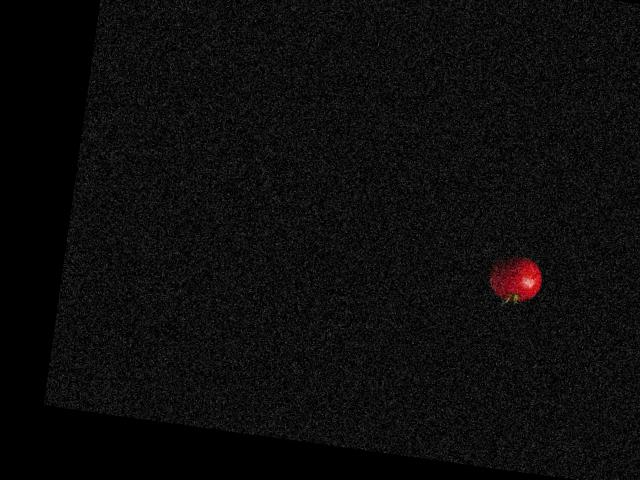tomato: (486, 253, 544, 304)
